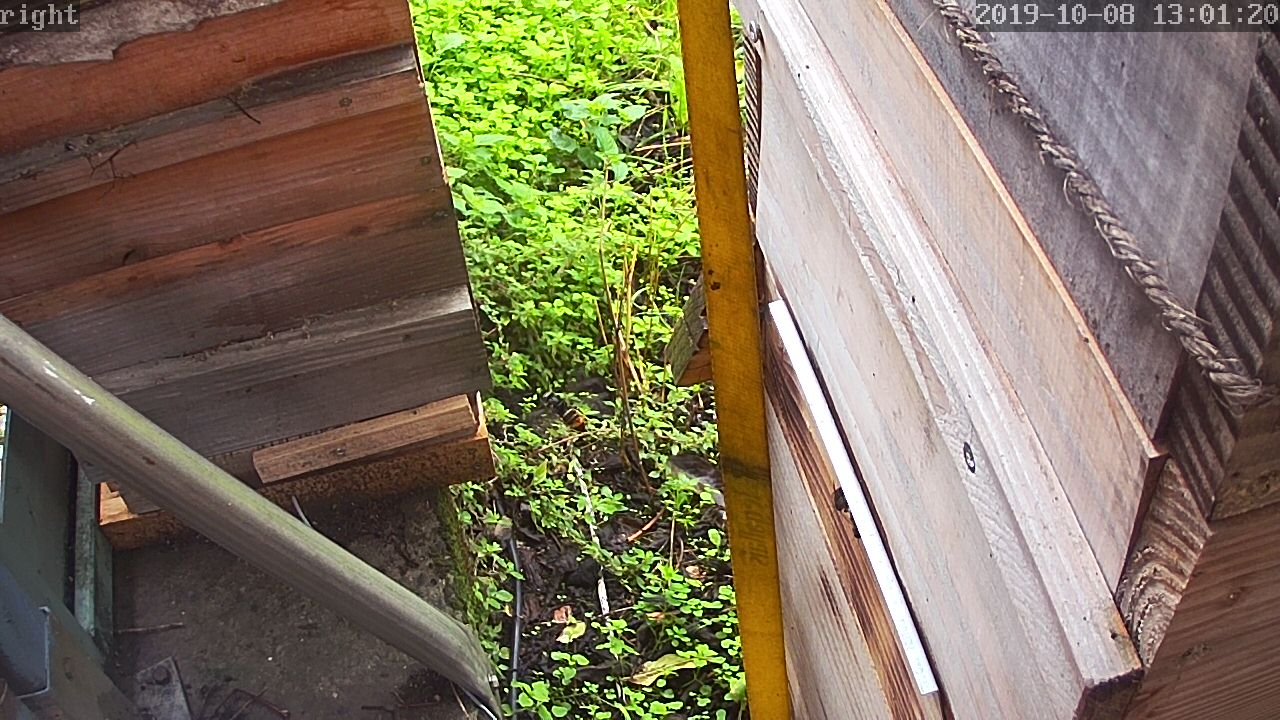bee: (826, 484, 866, 535)
hornet: (541, 392, 588, 441)
